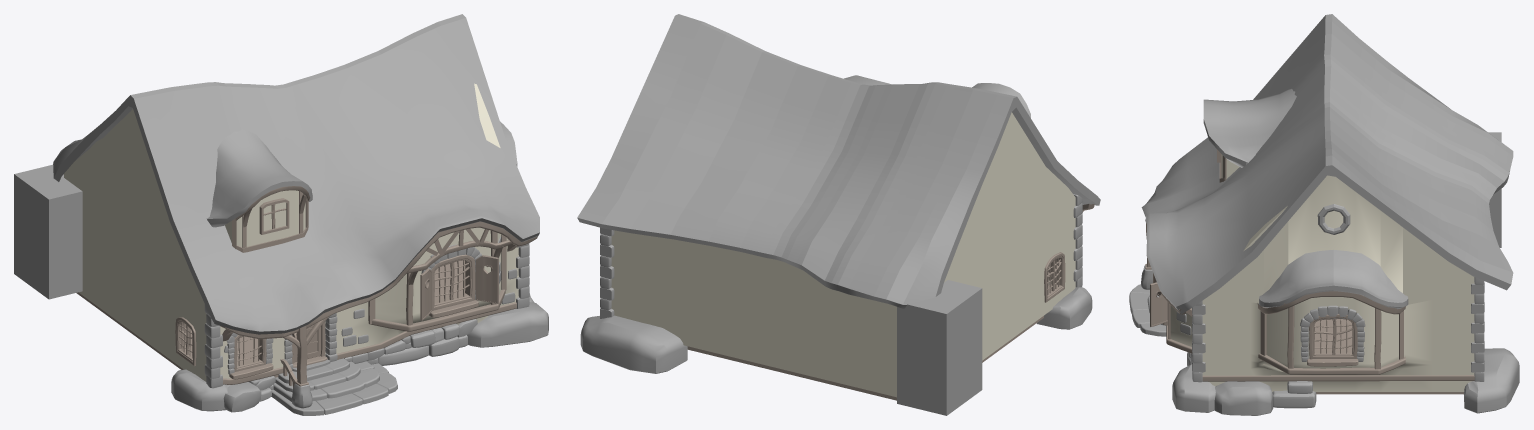
File: Mokki.fbx
3 views of the same model, side by side, from view 1: azimuth 30°, elevation 25°; view 2: azimuth 150°, elevation 25°; view 3: azimuth 270°, elevation 25° (orthographic). The views are drawn at different scales.
Parts seen in each view (by area): view 1: Roof, wall_left, chimney, wall_front, Roof_window_up, pCube111, wall_front_up, Step_04, pCube76, polySurface37, Step_03, Window_hinges (+15 smaller); view 2: Roof, wall_back, wall_left, chimney, pCube198, polySurface37, floor_down, Window_hinges5; view 3: Roof, wall_right, Roof_window_up1, Roof_window_up, pCube198, pCube112, pCube195, pCube111, pCube194, Step_04, floor_upper, pCube212 (+11 smaller).
Part boxes in pixels (x1,y1,x2,y2): Roof: (53, 14, 539, 334); wall_left: (64, 109, 206, 381); chimney: (14, 164, 82, 299); wall_front: (220, 227, 518, 378); Roof_window_up: (207, 129, 312, 227); pCube111: (467, 302, 548, 347); wall_front_up: (225, 190, 305, 247); Step_04: (271, 363, 397, 415); pCube76: (220, 221, 537, 339); polySurface37: (171, 369, 229, 411); Step_03: (273, 361, 379, 401); Window_hinges: (431, 254, 475, 310); Roof: (577, 14, 1100, 308); wall_back: (611, 230, 896, 397); wall_left: (944, 112, 1075, 360); chimney: (897, 280, 982, 415); pCube198: (580, 315, 687, 373); polySurface37: (1036, 287, 1092, 329); floor_down: (687, 316, 1043, 400); Window_hinges5: (1044, 252, 1065, 302); Roof: (1141, 14, 1513, 314); wall_right: (1202, 175, 1474, 391); Roof_window_up1: (1259, 249, 1408, 308); Roof_window_up: (1203, 89, 1296, 167); pCube198: (1464, 348, 1519, 413); pCube112: (1214, 381, 1273, 415); pCube195: (1202, 375, 1474, 381); pCube111: (1172, 364, 1215, 412); pCube194: (1258, 353, 1405, 374); Step_04: (1129, 284, 1166, 336); floor_upper: (1260, 319, 1352, 365); pCube212: (1257, 291, 1405, 314).
Size of the model in its own units: 1242 by 795 by 1149.
